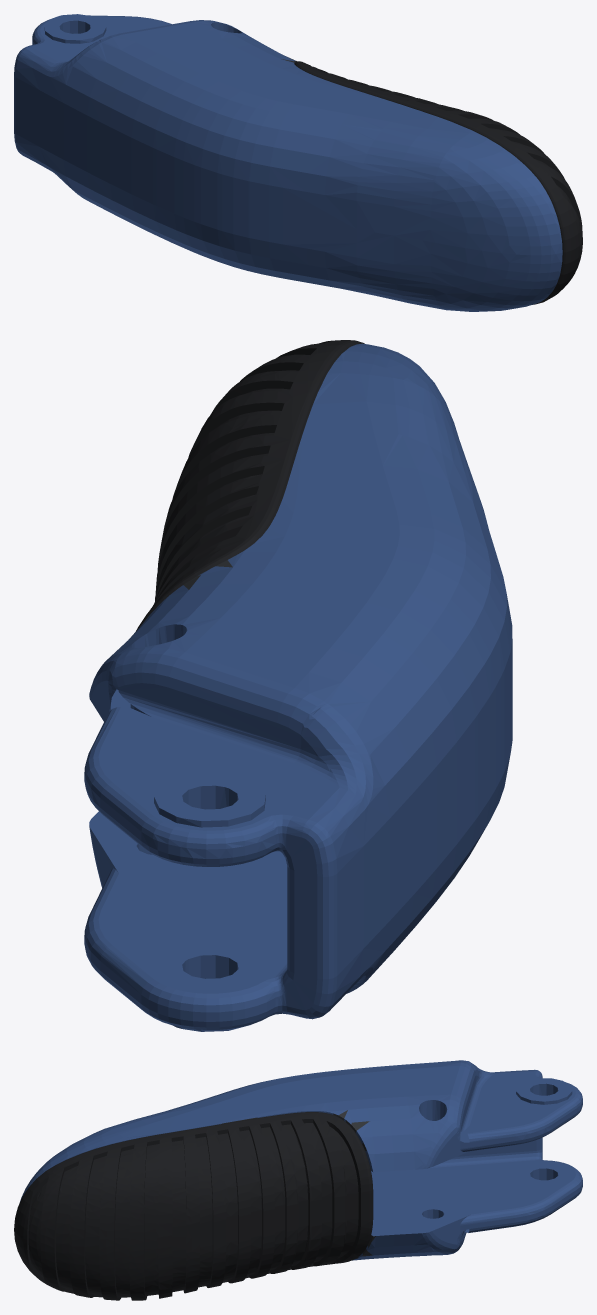
File: lh_ring_distal_vis.obj
The picture shows the model from 3 angles, top to bottom: view 1: azimuth 30°, elevation 25°; view 2: azimuth 150°, elevation 25°; view 3: azimuth 270°, elevation 25°; orthographic projection. The views are drawn at different scales.
Visible parts, largest first — view 1: lh_ring_distal; view 2: lh_ring_distal; view 3: lh_ring_distal.
Boxes of the visible parts, x1,y1,x2,y2 form: lh_ring_distal: (14, 14, 582, 311); lh_ring_distal: (84, 340, 512, 1031); lh_ring_distal: (14, 1060, 582, 1300).
Bounding box in the file's own units: 0.0223 × 0.0122 × 0.0403.
1 material, 1 textured.
